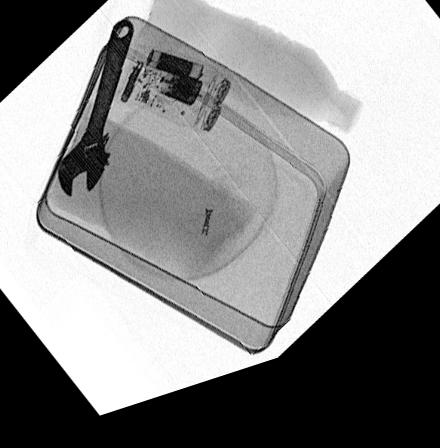Wrench: (53, 26, 136, 204)
